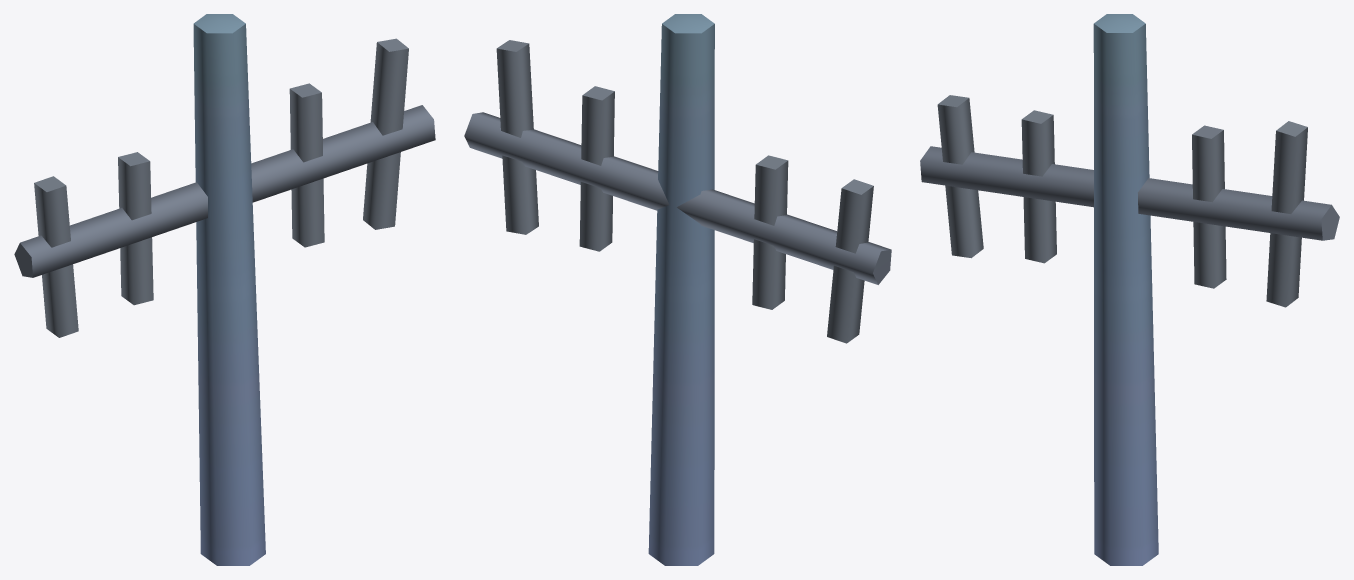
File: Antene_1_A_2.fbx
3 views of the same model, side by side, from view 1: azimuth 30°, elevation 25°; view 2: azimuth 150°, elevation 25°; view 3: azimuth 330°, elevation 25° (orthographic).
Visible parts, largest first — view 1: Antene_1_A_2; view 2: Antene_1_A_2; view 3: Antene_1_A_2.
Part boxes in pixels (x1,y1,x2,y2): Antene_1_A_2: [14, 14, 435, 565]; Antene_1_A_2: [464, 14, 891, 565]; Antene_1_A_2: [920, 14, 1339, 565].
Bounding box in the file's own units: 58.81 × 73.94 × 8.24.
